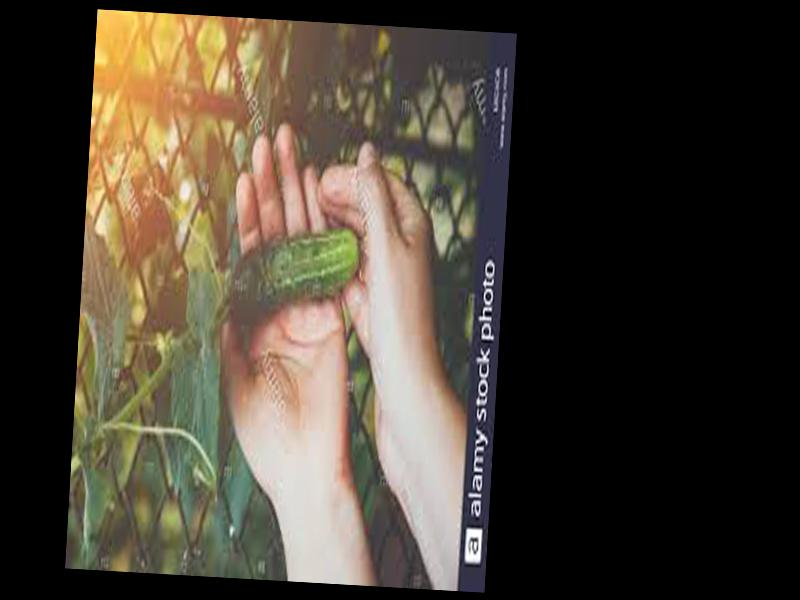Cucumber: (228, 219, 362, 328)
